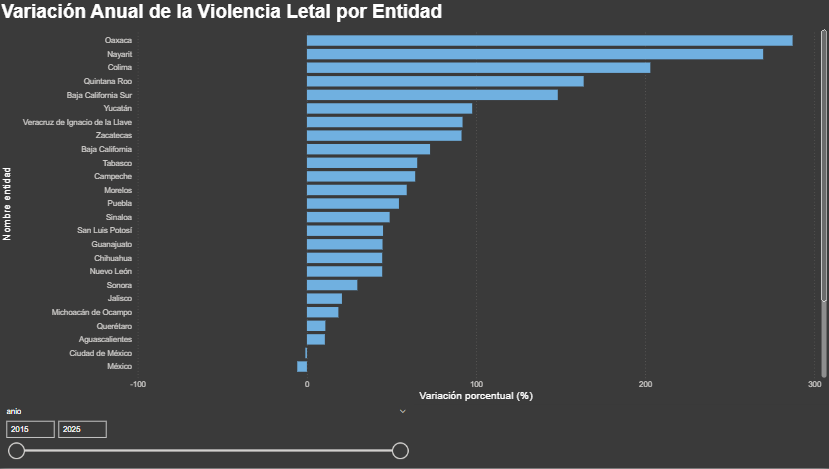

Layout of this report page (visuals, bound fields, positions):
{"tool":"powerbi","page":{"name":"G3","canvas":[1280,720],"ordinal":2},"visuals":[{"type":"barChart","title":"Variación Anual de la Violencia Letal por Entidad","fields":{"Category":["variacion_anual.nombre_entidad"],"Y":["Sum(variacion_anual.pct_cambio)"]},"box":[0,0,1280,622],"z":0},{"type":"slicer","fields":{"Values":["variacion_anual.anio"]},"box":[0,622,640,98],"z":1001}]}

Visuals, with their boxes in screenshot pixels (x1, y1, x2, y2), scaled from the page's 1280x720 canvas onto the 829x469 screenshot:
"Variación Anual de la Violencia Letal por Entidad" barChart: box(0, 0, 828, 405)
slicer - variacion_anual.anio: box(0, 405, 414, 468)
